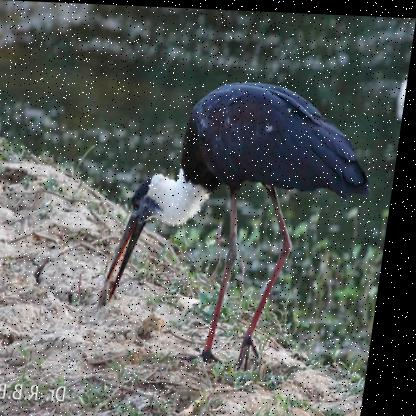Burung: (105, 72, 390, 368)
